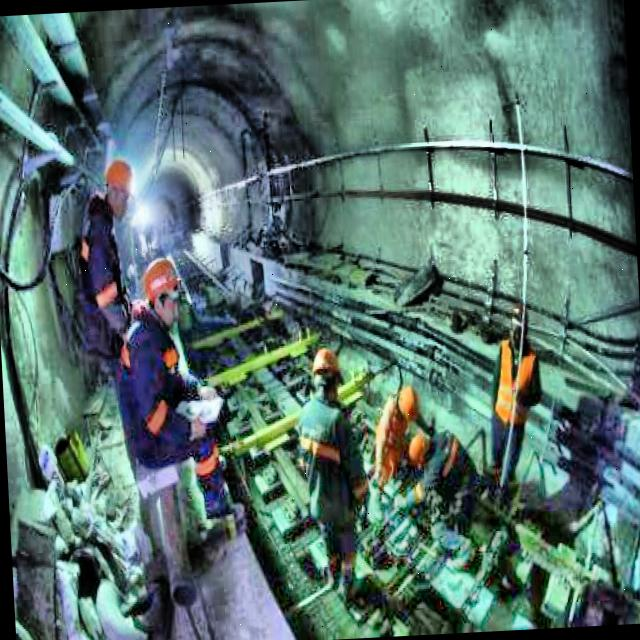helmet: (137, 253, 186, 330), (100, 152, 136, 217), (310, 344, 345, 406), (391, 381, 424, 423), (506, 300, 534, 344), (403, 434, 435, 470)
